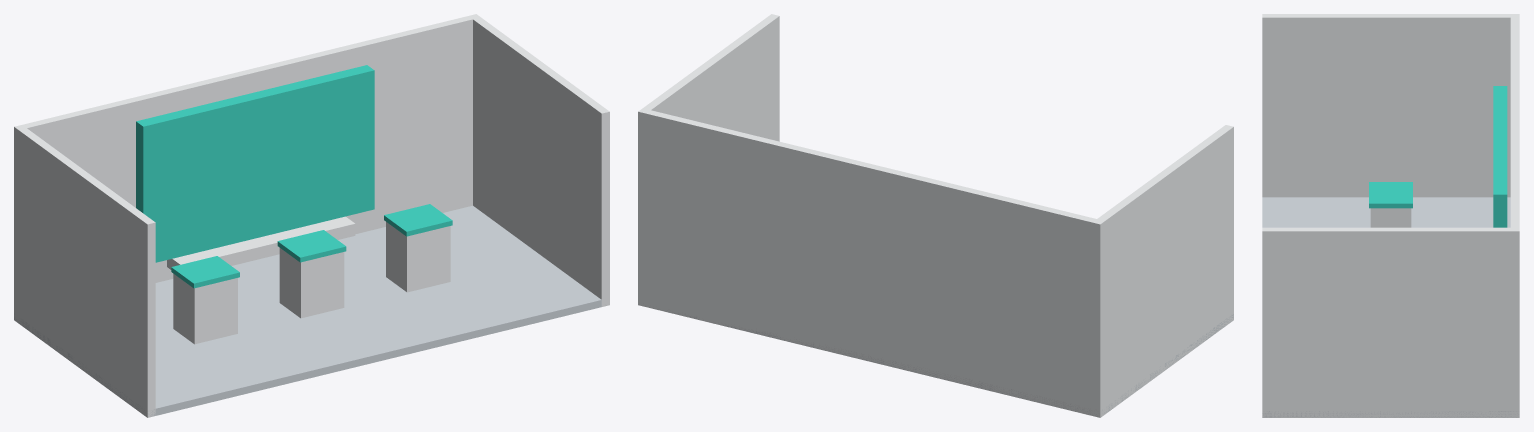
3 renders of one model, left to right at view 1: azimuth 30°, elevation 25°; view 2: azimuth 150°, elevation 25°; view 3: azimuth 270°, elevation 25°, orthographic. The views are drawn at different scales.
Visible parts, largest first — view 1: Exhibition Booth Concept; view 2: Exhibition Booth Concept; view 3: Exhibition Booth Concept.
Part boxes in pixels (x1,y1,x2,y2): Exhibition Booth Concept: [14, 14, 609, 417]; Exhibition Booth Concept: [638, 14, 1233, 417]; Exhibition Booth Concept: [1262, 14, 1519, 417].
Size of the model in its own units: 8 by 3.2 by 4.
